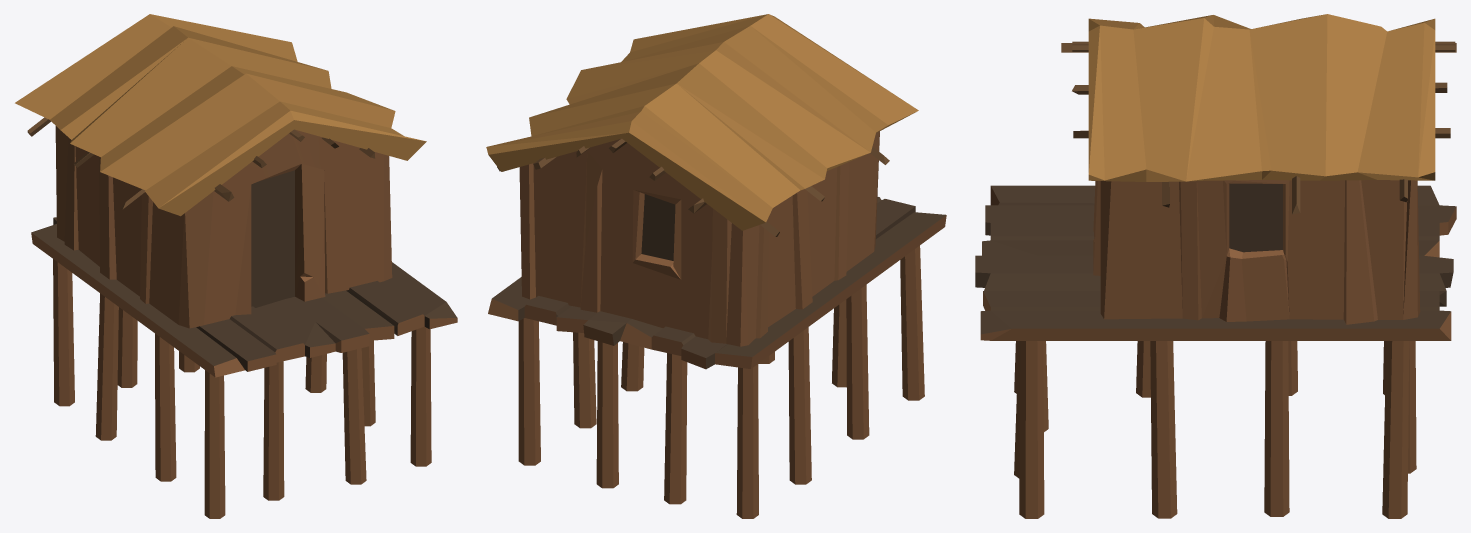
The model's file is pirates_pirate-hut-platform-small.fbx.
3 renders of one model, left to right at view 1: azimuth 30°, elevation 25°; view 2: azimuth 150°, elevation 25°; view 3: azimuth 270°, elevation 25°, orthographic. The views are drawn at different scales.
Visible parts, largest first — view 1: pirates_pirate_hut_platform_small; view 2: pirates_pirate_hut_platform_small; view 3: pirates_pirate_hut_platform_small.
Boxes of the visible parts, <box> form: pirates_pirate_hut_platform_small: <box>15,14,457,518</box>; pirates_pirate_hut_platform_small: <box>486,14,946,518</box>; pirates_pirate_hut_platform_small: <box>975,14,1456,518</box>.
Bounding box in the file's own units: 164 × 200 × 200.
